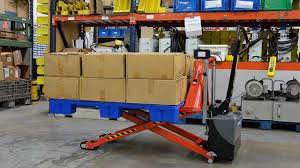Scissor Lift: (48, 27, 277, 160)
